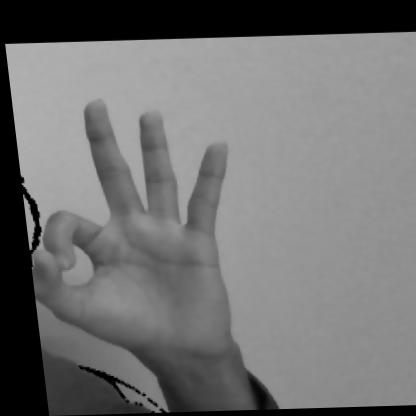ok: (9, 89, 293, 397)
